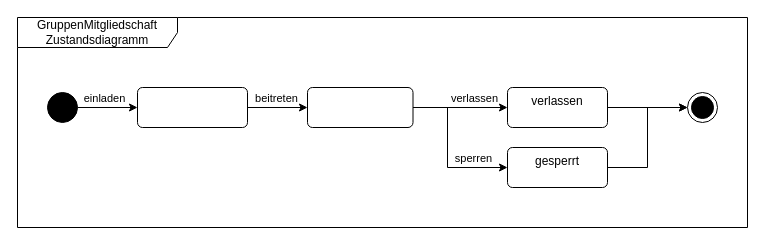
Image size: 765x245. Some labels were removed from this diagram. Each missing label, with the centre of its shape:
beigetreten: the point at 359,107
eingeladen: the point at 192,107
